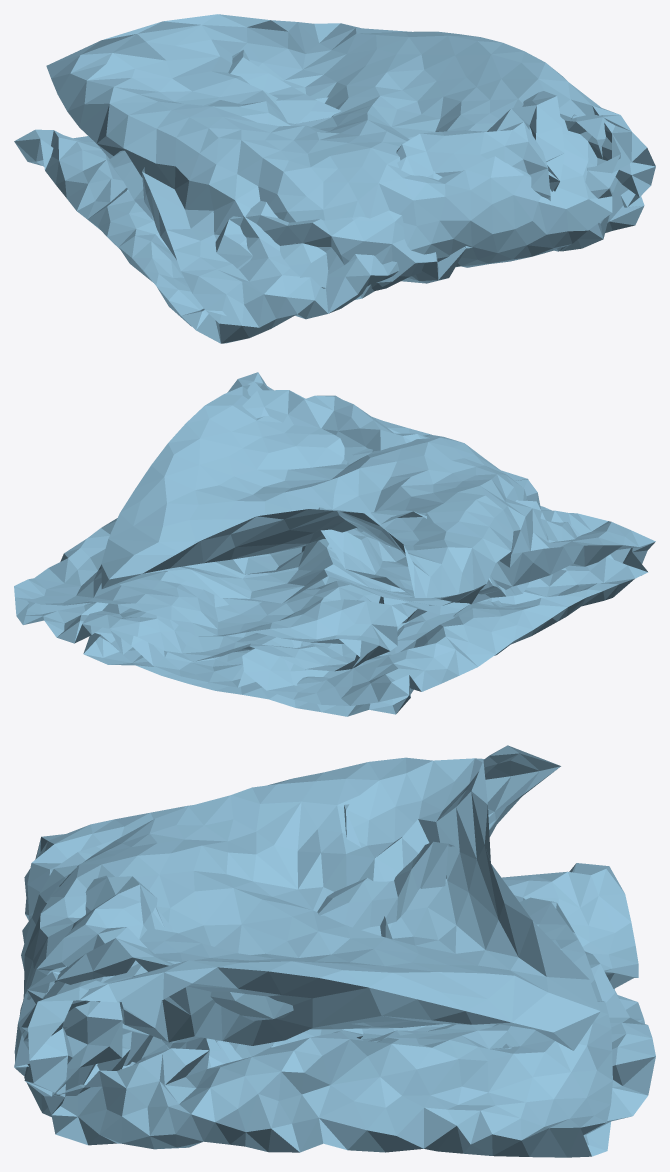
File: frame_19.glb
The picture shows the model from 3 angles, top to bottom: view 1: azimuth 30°, elevation 25°; view 2: azimuth 150°, elevation 25°; view 3: azimuth 270°, elevation 25°; orthographic projection. The views are drawn at different scales.
Visible parts, largest first — view 1: frame_19.obj; view 2: frame_19.obj; view 3: frame_19.obj.
Boxes of the visible parts, box(x1,y1,x2,y2) form: frame_19.obj: box(14, 14, 655, 343); frame_19.obj: box(14, 372, 655, 716); frame_19.obj: box(14, 745, 655, 1157).
Bounding box in the file's own units: 1 × 0.3563 × 0.9436.
